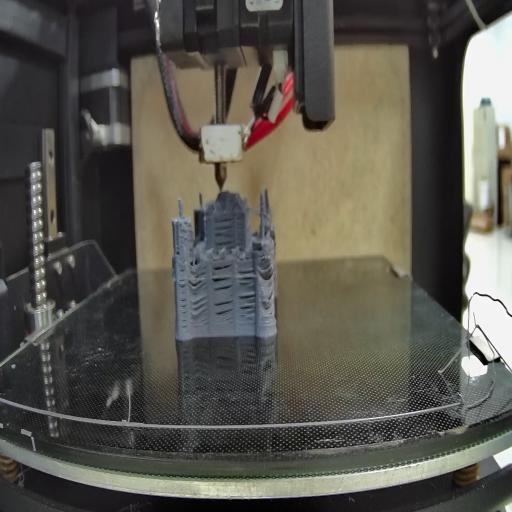cracks: (239, 267, 255, 324), (214, 213, 234, 250), (211, 265, 234, 291), (189, 294, 211, 320), (179, 269, 188, 330), (214, 298, 235, 324), (189, 268, 208, 293), (264, 286, 277, 304), (263, 262, 279, 276), (172, 241, 181, 257)
